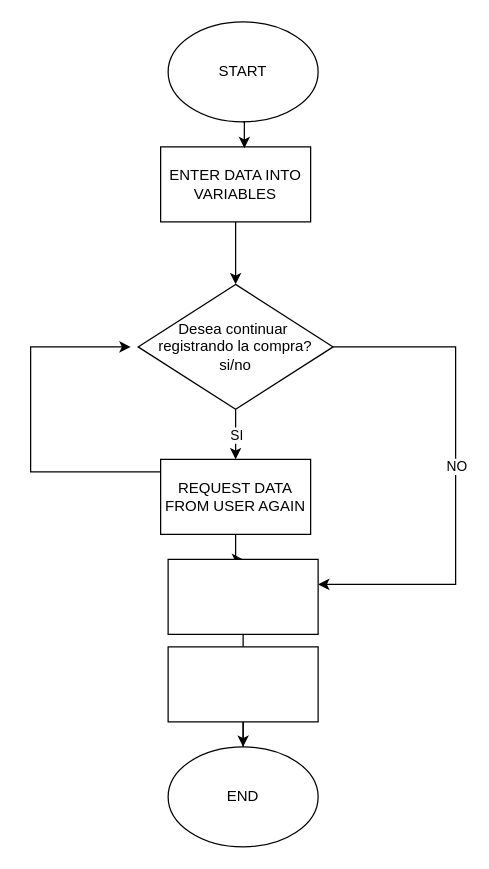
The diagram is 489 pixels wide and 869 high, and some of its shapes have lost their labels. The box of each missing label's shape, as (x1, y1, x2, y2) in pixels:
CALCULATE VALUES: (167, 558, 318, 634)
GENERATION OF FINAL SUMMARY: (167, 646, 318, 722)
